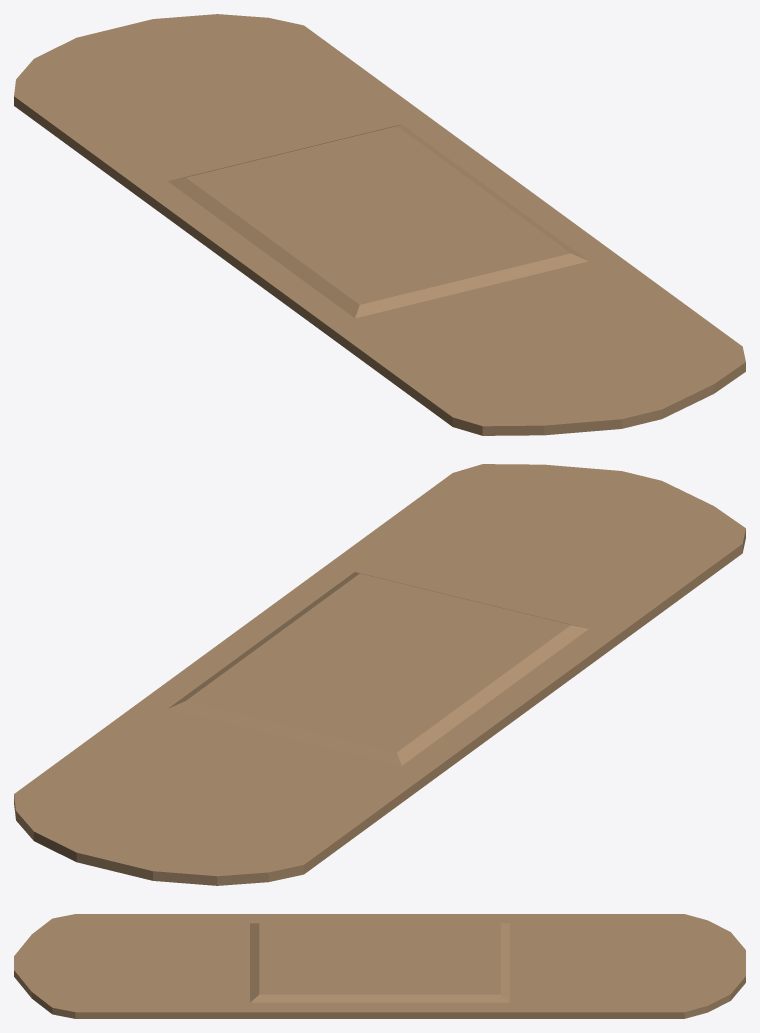
Rendered from AdhesiveBandage.fbx.
3 views of the same model, one above another, from view 1: azimuth 30°, elevation 25°; view 2: azimuth 150°, elevation 25°; view 3: azimuth 270°, elevation 25° (orthographic). The views are drawn at different scales.
Parts seen in each view (by area): view 1: Adhesive Bandage; view 2: Adhesive Bandage; view 3: Adhesive Bandage.
Part boxes in pixels (box(x1,y1,x2,y2)): Adhesive Bandage: box(14, 14, 745, 435); Adhesive Bandage: box(14, 464, 745, 885); Adhesive Bandage: box(14, 914, 745, 1018).
Bounding box in the file's own units: 0.7787 × 0.04 × 2.45.
